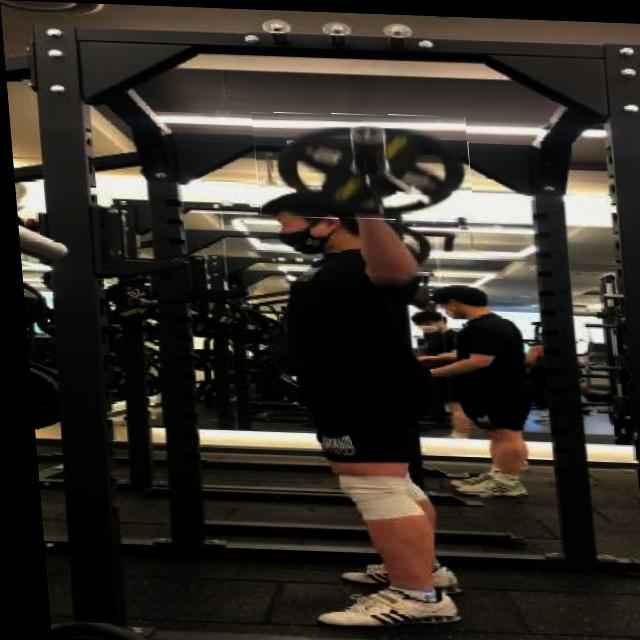barbell: (251, 109, 473, 221)
